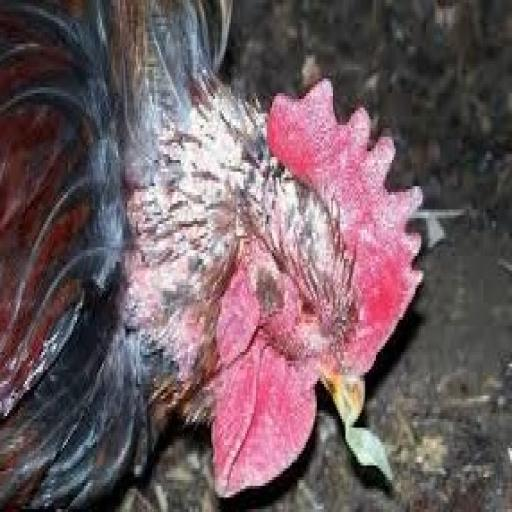disease: (239, 52, 426, 446), (276, 92, 424, 336), (287, 264, 339, 360)
